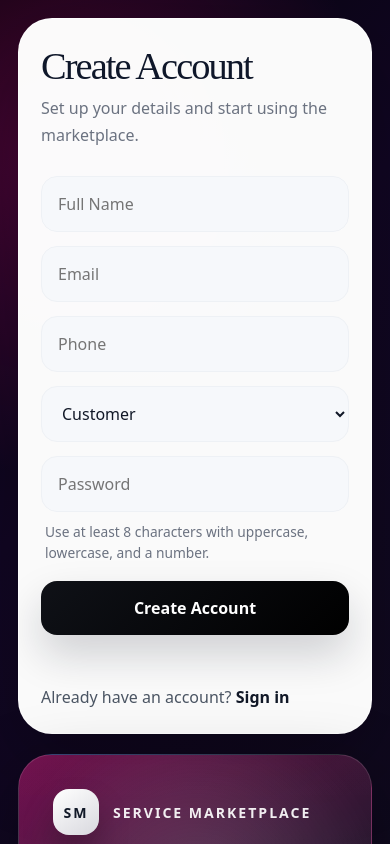
Test case: registers a customer and shows the created user id
Type "Test Customer" into the field with placeholder "Full Name". click: (195, 204)
box: 41,176 -> 349,232
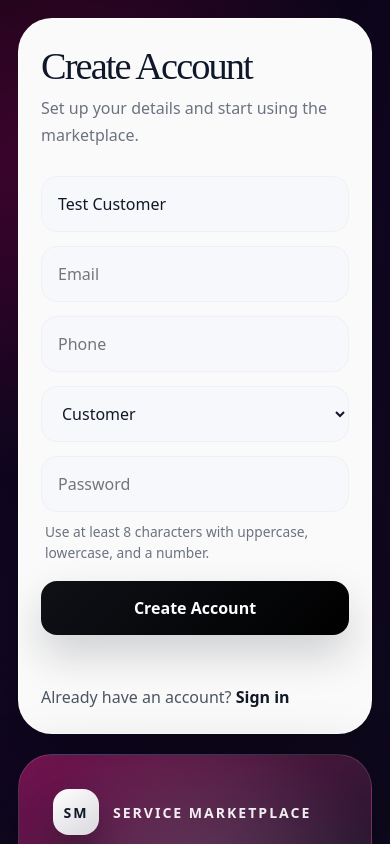
Type "customer7@test.com" into the field with placeholder "Email". click: (195, 274)
box: 41,246 -> 349,302
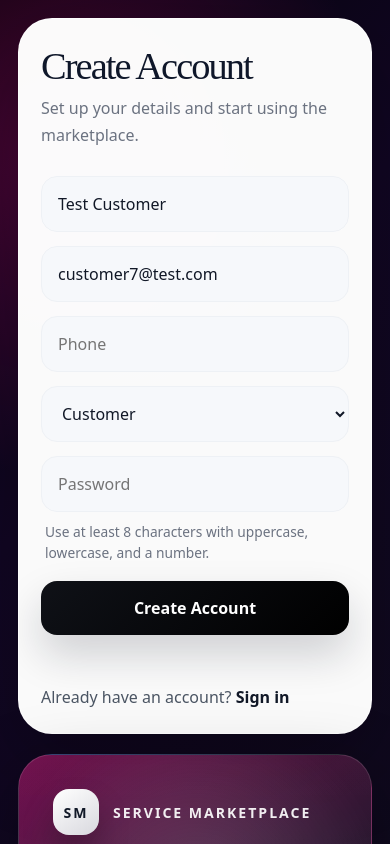
Type "1234567890" into the field with placeholder "Phone". click: (195, 344)
box: 41,316 -> 349,372
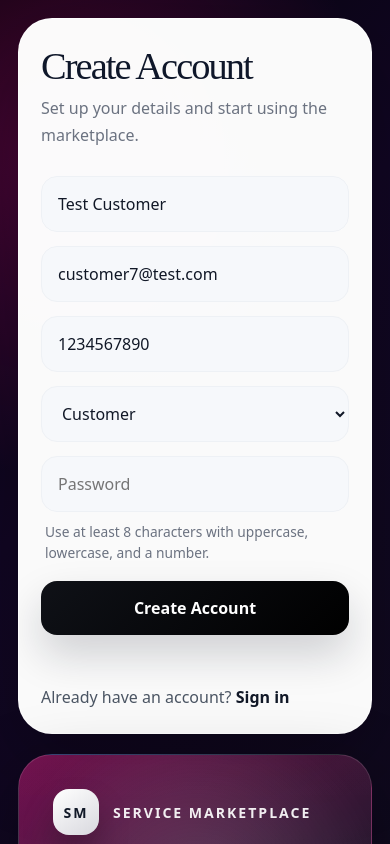
Select "Customer" in the dropdown. click: (195, 414)
box: 41,386 -> 349,442
Type "StrongPass1" into the password field with placeholder "Password". click: (195, 484)
box: 41,456 -> 349,512
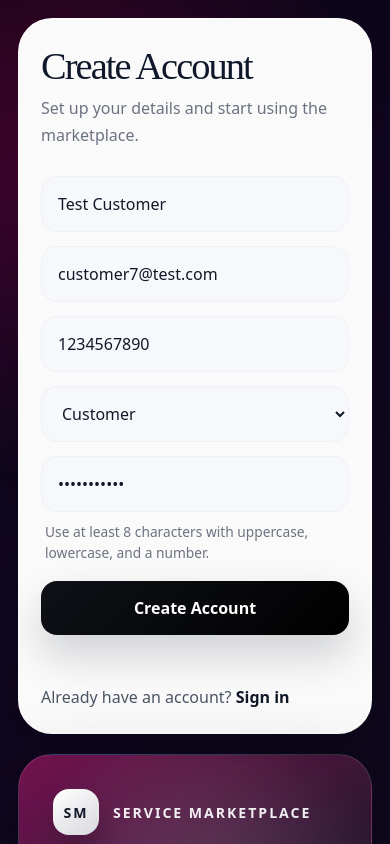
Click the button "Create Account". click: click(195, 608)
box: 41,582 -> 349,636
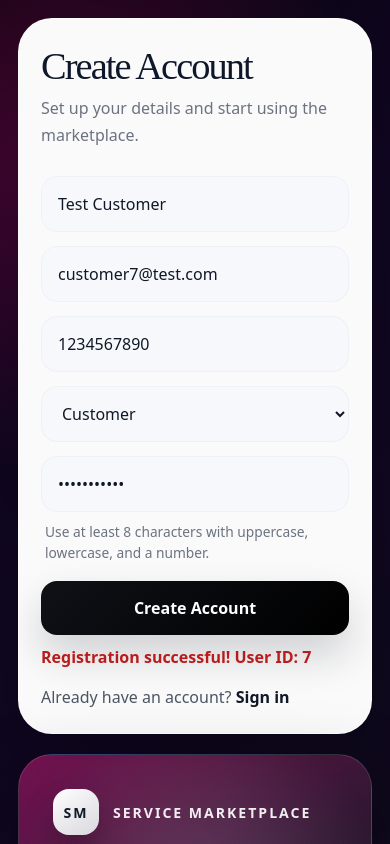
Result: the text "Registration successful! User ID: 7" is shown at 41,646 -> 349,670
